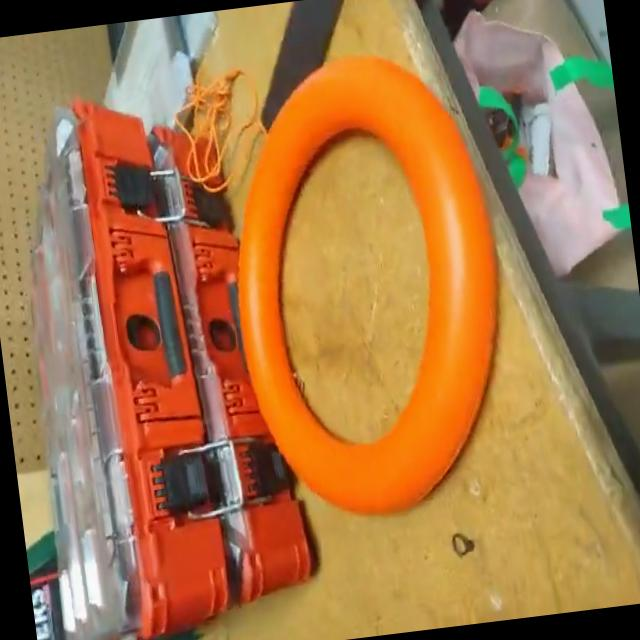note: (206, 39, 530, 536)
